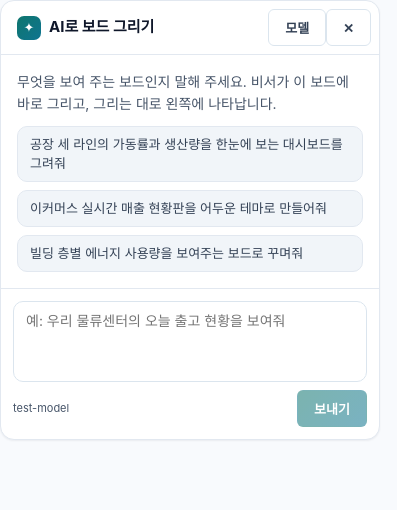
Test: the assistant panel › draws with the model: the tool it ran shows as a line, the board is read again, the answer follows
Type "카드 하나 그려줘" into the text box named "비서에게 보낼 말" at [190, 341], box [13, 301, 367, 382]
Then press Enter
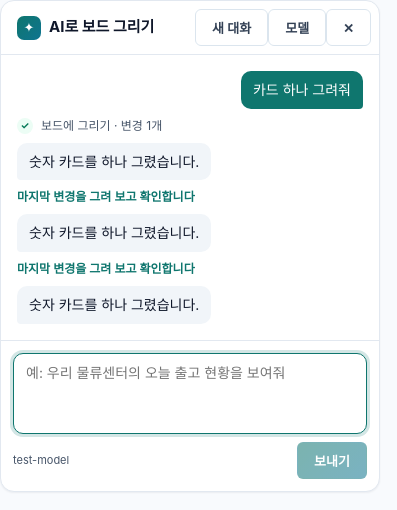
Now the text "숫자 카드를 하나 그렸습니다." is shown 3 times, box [17, 143, 211, 180]; [17, 214, 211, 252]; [17, 286, 211, 324]
Now the text "마지막 변경을 그려 보고 확인합니다" is shown 2 times, box [17, 189, 195, 204]; [17, 261, 195, 276]
Now the text "카드 하나 그려줘" is shown, box [241, 71, 363, 109]
